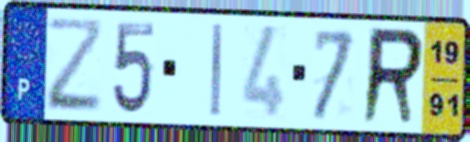4: (240, 21, 290, 123)
5: (109, 20, 158, 115)
7: (312, 29, 357, 122)
I: (209, 21, 226, 120)
R: (358, 24, 428, 128)
Z: (44, 16, 105, 115)
